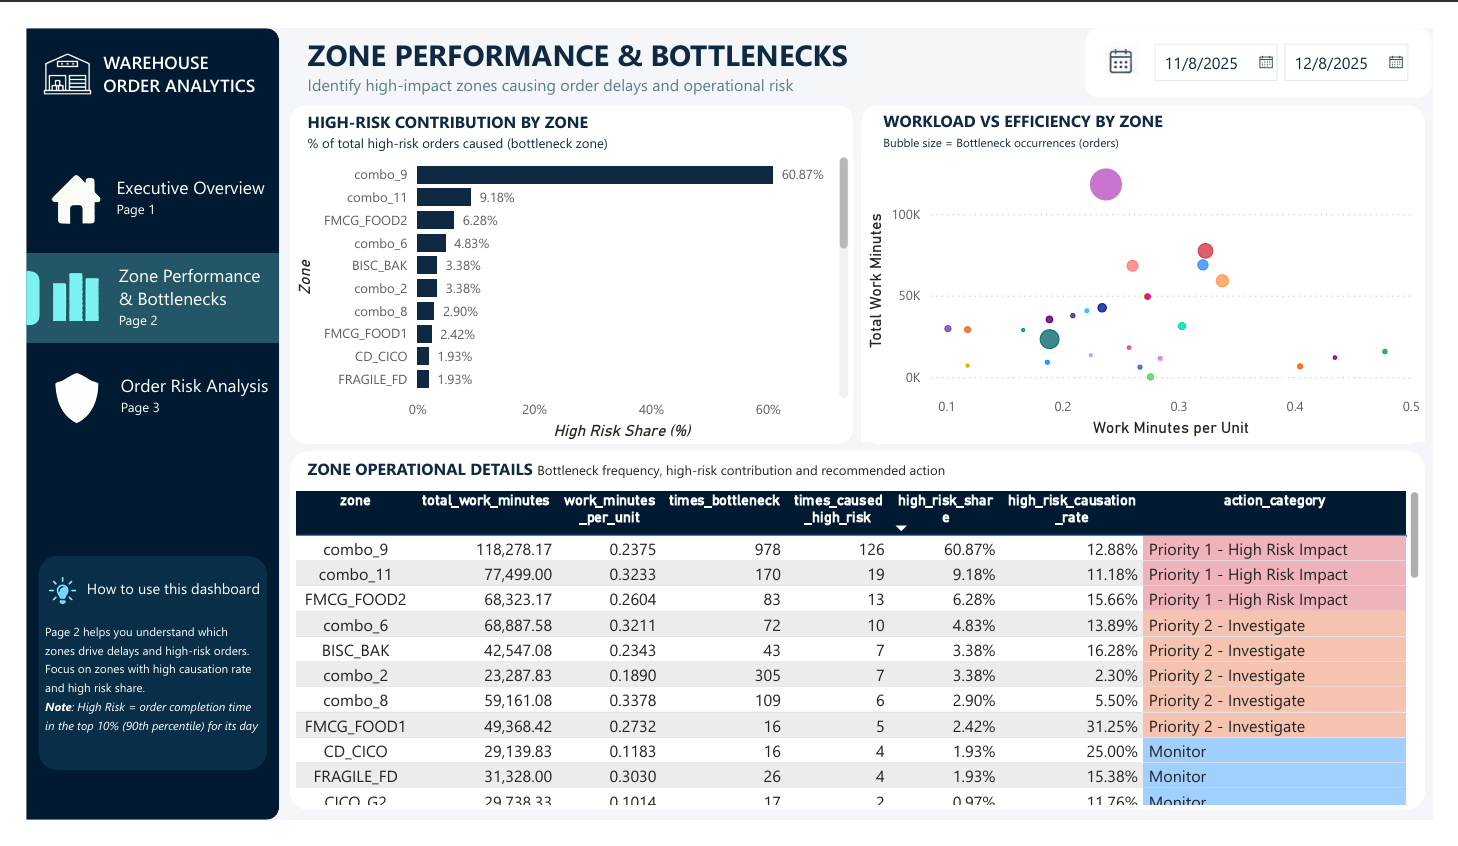

The dashboard page shown, as its layout file describes it:
{"tool":"powerbi","page":{"name":"Zone Performance and bottlenecks","canvas":[1280,720],"ordinal":1},"visuals":[{"type":"shape","box":[0,0,230,720],"z":0},{"type":"shape","box":[964.3,0,315.4,63.1],"z":0,"group":"g7"},{"type":"textbox","box":[65,15,158.8,55],"z":0,"group":"g6"},{"type":"shape","box":[0,204.5,230,81],"z":0,"group":"g2"},{"type":"group","id":"g1","title":"Group 3","box":[0,296,230,81],"z":0,"group":"g3"},{"type":"shape","box":[11,480,207.5,195],"z":0,"group":"g5"},{"type":"textbox","box":[251.2,0,508.8,68.8],"z":1000},{"type":"slicer","fields":{"Values":["DateTable.Date"]},"box":[1014.2,3.9,265.7,50],"z":1000,"group":"g7"},{"type":"image","box":[10,6.2,55,71.2],"z":1000,"group":"g6"},{"type":"textbox","box":[77,129,151,52],"z":1000,"group":"g4"},{"type":"group","id":"g2","title":"Group 2","box":[0,204.5,230,81],"z":1000,"group":"g3"},{"type":"textbox","box":[79,208,145,74],"z":1000,"group":"g2"},{"type":"textbox","box":[81,309,145,56],"z":1000,"group":"g1"},{"type":"textbox","box":[49.6,496.2,169.5,30.5],"z":1000,"group":"g5"},{"type":"image","box":[980.4,10.2,33.1,38.5],"z":2000,"group":"g7"},{"type":"group","id":"g3","title":"Group 4","box":[0,113,230,264],"z":2000},{"type":"group","id":"g4","title":"Group 1","box":[0,113,230,81],"z":2000,"group":"g3"},{"type":"shape","box":[0,220.5,12.1,49.1],"z":2000,"group":"g2"},{"type":"textbox","box":[12.2,533.8,205,155],"z":2000,"group":"g5"},{"type":"image","box":[20,133,51,45],"z":3000,"group":"g4"},{"type":"image","box":[15,205,61,60],"z":3000,"group":"g2"},{"type":"image","box":[5,306,82,61],"z":3000,"group":"g1"},{"type":"group","id":"g5","title":"Group 5","box":[11,480,208.1,208.8],"z":3000},{"type":"image","box":[11,488.6,44.3,45.7],"z":3000,"group":"g5"},{"type":"group","id":"g6","title":"Group 6","box":[10,6.2,213.8,71.2],"z":4000},{"type":"actionButton","box":[0,113,230,81],"z":4000,"group":"g4"},{"type":"actionButton","box":[0,204.5,230,81],"z":4000,"group":"g2"},{"type":"actionButton","box":[0,296,230,81],"z":4000,"group":"g1"},{"type":"shape","title":"high Risk Contribution by zone","box":[240,70,512.5,307.5],"z":5000},{"type":"shape","box":[760,70,512.5,307.5],"z":6000},{"type":"shape","box":[240,385,1032.5,326.2],"z":7000},{"type":"clusteredBarChart","fields":{"Category":["dashboard_zone_recommendation.zone"],"Y":["Sum(dashboard_zone_recommendation.high_risk_share)"]},"box":[240,103.8,512.5,275],"z":8000},{"type":"textbox","box":[251.2,70,321.2,53.8],"z":9000},{"type":"textbox","box":[775,68.8,321.2,54],"z":10000},{"type":"scatterChart","fields":{"X":["dashboard_zone_recommendation.work_minutes_per_unit"],"Y":["dashboard_zone_recommendation.total_work_minutes"],"Size":["Sum(dashboard_zone_recommendation.times_bottleneck)"],"Series":["dashboard_zone_recommendation.zone"]},"box":[760,112.5,512.5,263.8],"z":11000},{"type":"tableEx","fields":{"Values":["dashboard_zone_recommendation.zone","dashboard_zone_recommendation.total_work_minutes","dashboard_zone_recommendation.work_minutes_per_unit","dashboard_zone_recommendation.times_bottleneck","dashboard_zone_recommendation.times_caused_high_risk","dashboard_zone_recommendation.high_risk_share","dashboard_zone_recommendation.high_risk_causation_rate","dashboard_zone_recommendation.action_category"]},"box":[240,416.2,1032.5,295],"z":12000},{"type":"textbox","box":[251.2,385,715,31.2],"z":13000},{"type":"group","id":"g7","title":"Group 8","box":[964.3,0,315.7,64.3],"z":14000}]}

Visuals, with their boxes in screenshot pixels (x1, y1, x2, y2):
shape: box=[23, 80, 272, 845]
shape: box=[1068, 80, 1409, 148]
textbox: box=[93, 96, 265, 156]
shape: box=[23, 301, 272, 389]
"Group 3" group: box=[23, 400, 272, 488]
shape: box=[35, 600, 260, 811]
textbox: box=[295, 80, 846, 154]
slicer - DateTable.Date: box=[1122, 84, 1410, 138]
image: box=[34, 86, 93, 164]
textbox: box=[106, 220, 270, 276]
"Group 2" group: box=[23, 301, 272, 389]
textbox: box=[108, 305, 265, 385]
textbox: box=[111, 415, 268, 475]
textbox: box=[77, 617, 260, 650]
image: box=[1085, 91, 1121, 132]
"Group 4" group: box=[23, 202, 272, 488]
"Group 1" group: box=[23, 202, 272, 290]
shape: box=[23, 319, 36, 372]
textbox: box=[36, 658, 258, 826]
image: box=[44, 224, 100, 273]
image: box=[39, 302, 105, 367]
image: box=[28, 411, 117, 477]
"Group 5" group: box=[35, 600, 260, 826]
image: box=[35, 609, 83, 659]
"Group 6" group: box=[34, 86, 265, 164]
actionButton: box=[23, 202, 272, 290]
actionButton: box=[23, 301, 272, 389]
actionButton: box=[23, 400, 272, 488]
"high Risk Contribution by zone" shape: box=[283, 156, 838, 489]
shape: box=[846, 156, 1402, 489]
shape: box=[283, 497, 1402, 845]
clusteredBarChart - dashboard_zone_recommendation.zone x Sum(dashboard_zone_recommendation.high_risk_share): box=[283, 192, 838, 490]
textbox: box=[295, 156, 643, 214]
textbox: box=[862, 154, 1211, 213]
scatterChart - dashboard_zone_recommendation.work_minutes_per_unit x dashboard_zone_recommendation.total_work_minutes: box=[846, 202, 1402, 487]
tableEx - dashboard_zone_recommendation.zone x dashboard_zone_recommendation.total_work_minutes: box=[283, 531, 1402, 845]
textbox: box=[295, 497, 1070, 531]
"Group 8" group: box=[1068, 80, 1410, 149]
